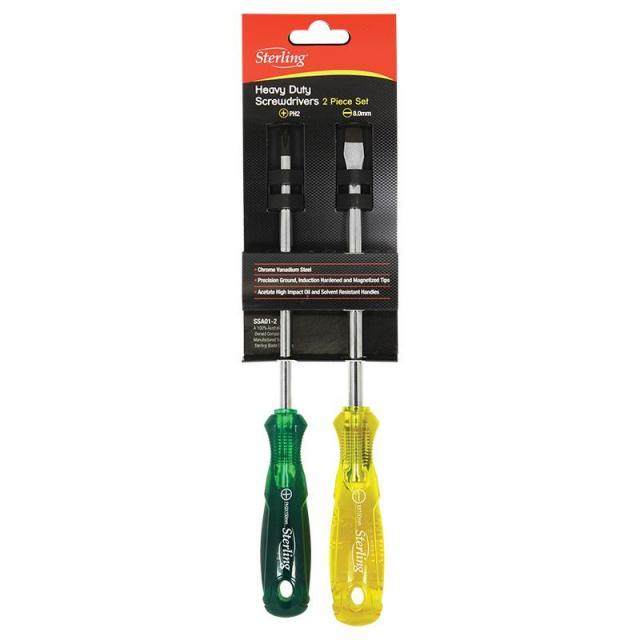screwdriver: (326, 119, 391, 629), (254, 123, 316, 621)
